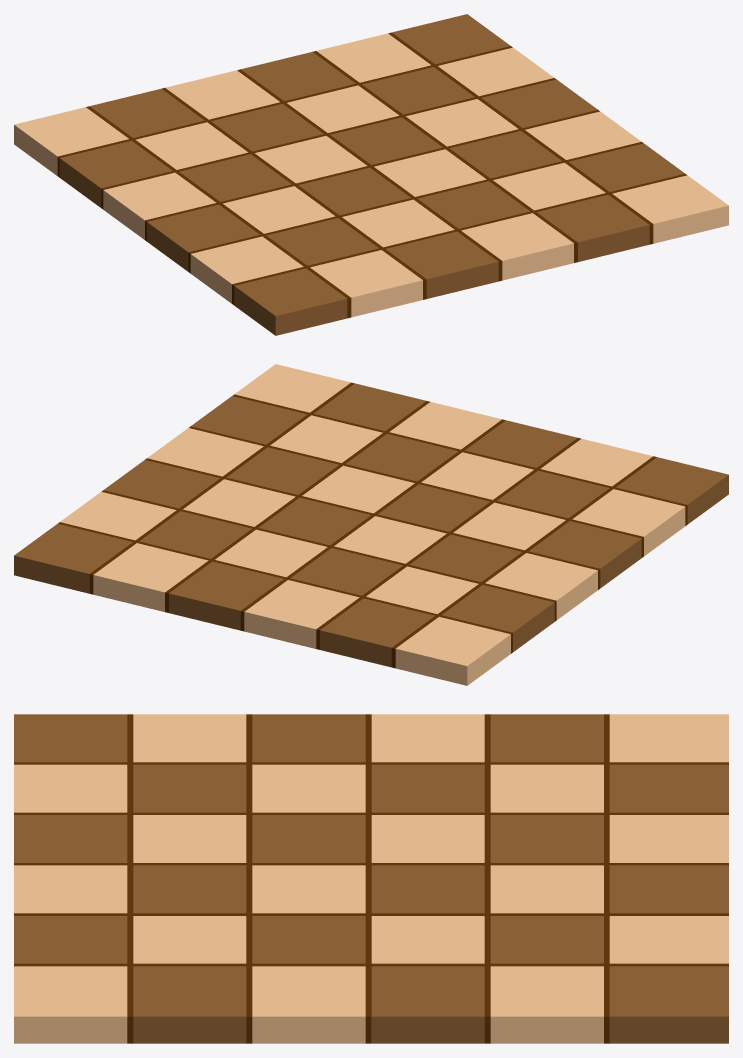
The model's file is floor20.obj.
3 views of the same model, one above another, from view 1: azimuth 30°, elevation 25°; view 2: azimuth 150°, elevation 25°; view 3: azimuth 270°, elevation 25° (orthographic). The views are drawn at different scales.
Size of the model in its own units: 12 by 0.5 by 12.
1 material, 1 textured.
